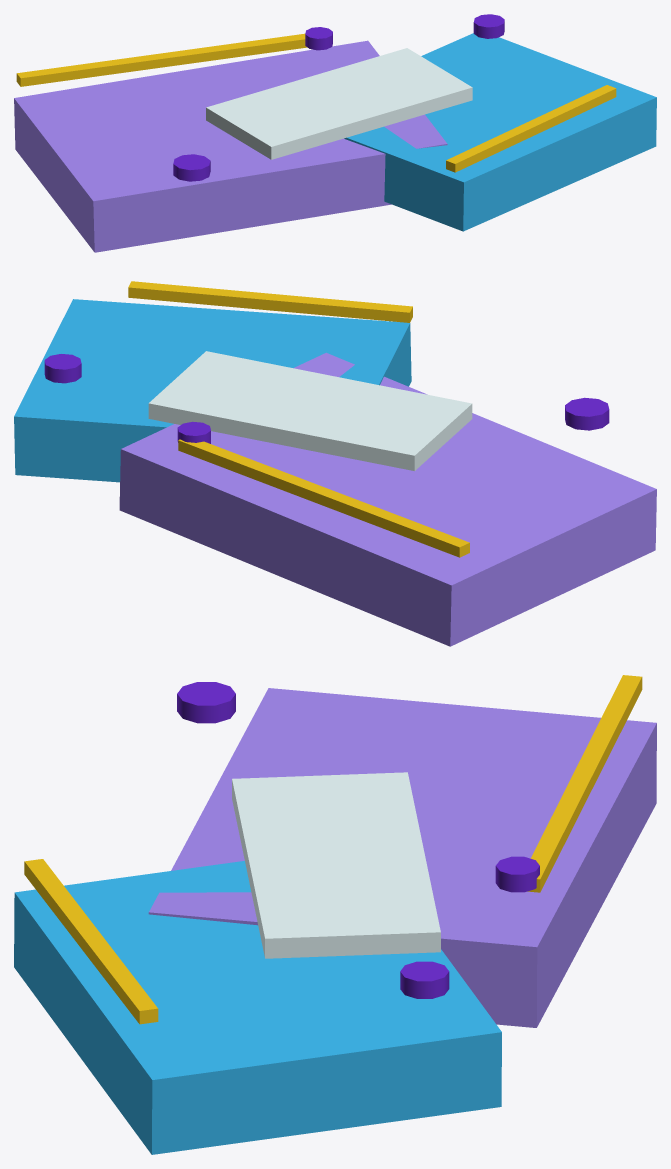
Rendered from toy_irregular_fragment_s4.glb.
3 renders of one model, top to bottom at view 1: azimuth 30°, elevation 25°; view 2: azimuth 150°, elevation 25°; view 3: azimuth 270°, elevation 25°, orthographic. The views are drawn at different scales.
Visible parts, largest first — view 1: solid_center_left, solid_center_right, solid_3, solid_4, solid_5, solid_6, solid_7, solid_8; view 2: solid_center_left, solid_center_right, solid_3, solid_4, solid_5, solid_6, solid_7, solid_8; view 3: solid_center_right, solid_center_left, solid_3, solid_4, solid_5, solid_6, solid_7, solid_8.
Boxes of the visible parts, bbox=[...] form: solid_center_left: bbox=[14, 40, 447, 252]; solid_center_right: bbox=[344, 33, 656, 231]; solid_3: bbox=[206, 48, 472, 159]; solid_4: bbox=[16, 33, 307, 86]; solid_5: bbox=[446, 85, 616, 172]; solid_6: bbox=[173, 154, 210, 181]; solid_7: bbox=[473, 14, 504, 38]; solid_8: bbox=[305, 27, 332, 50]; solid_center_left: bbox=[119, 352, 656, 646]; solid_center_right: bbox=[14, 299, 411, 482]; solid_3: bbox=[148, 351, 472, 470]; solid_4: bbox=[178, 439, 469, 557]; solid_5: bbox=[128, 281, 412, 322]; solid_6: bbox=[565, 397, 609, 430]; solid_7: bbox=[44, 354, 81, 383]; solid_8: bbox=[177, 421, 210, 443]; solid_center_right: bbox=[14, 861, 501, 1154]; solid_center_left: bbox=[148, 688, 656, 1027]; solid_3: bbox=[232, 772, 440, 958]; solid_4: bbox=[527, 675, 642, 892]; solid_5: bbox=[24, 859, 158, 1024]; solid_6: bbox=[177, 682, 235, 723]; solid_7: bbox=[400, 961, 449, 998]; solid_8: bbox=[495, 856, 539, 892].
Bounding box in the file's own units: 3.83 × 0.6007 × 2.62.
